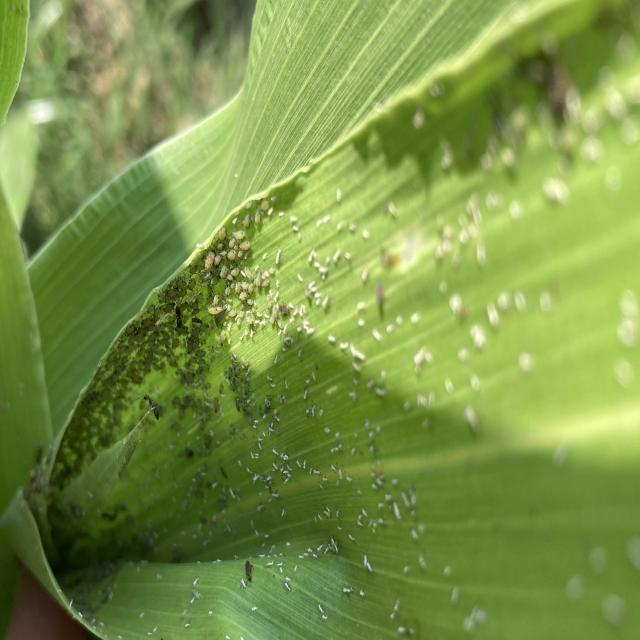Aphid-Grouped-: (53, 192, 312, 479)
